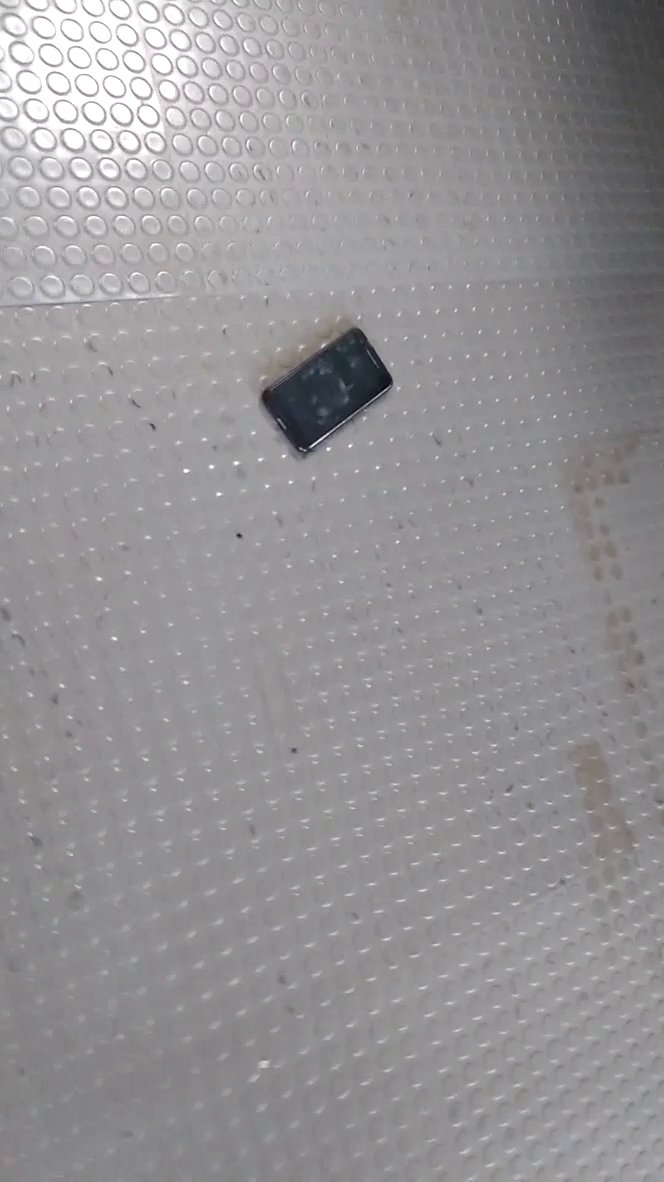phone: (247, 307, 410, 470)
